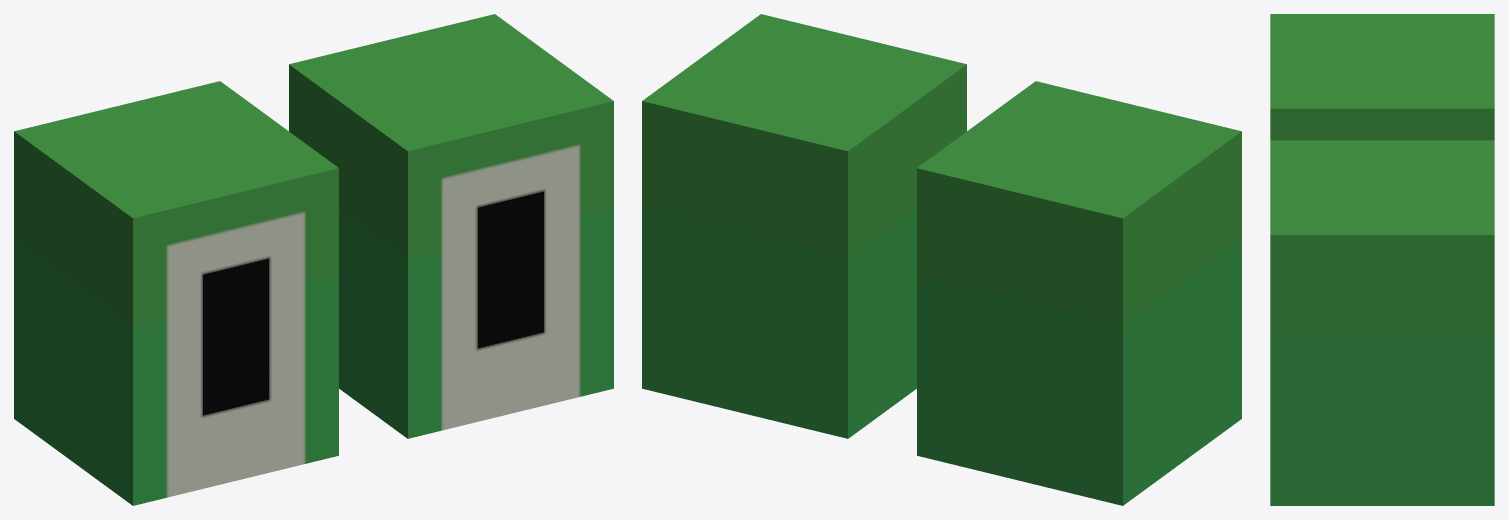
File: Accessories018.fbx
3 views of the same model, side by side, from view 1: azimuth 30°, elevation 25°; view 2: azimuth 150°, elevation 25°; view 3: azimuth 270°, elevation 25° (orthographic). The views are drawn at different scales.
Visible parts, largest first — view 1: Accessories018; view 2: Accessories018; view 3: Accessories018.
Boxes of the visible parts, x1=… form: Accessories018: x1=14, y1=14, x2=613, y2=505; Accessories018: x1=642, y1=14, x2=1241, y2=505; Accessories018: x1=1270, y1=14, x2=1494, y2=505.
Size of the model in its own units: 14 by 8 by 6.
